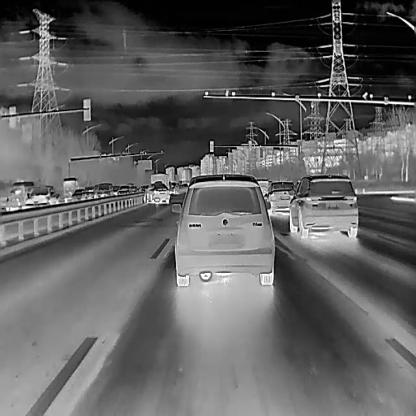car: (171, 173, 274, 285), (287, 174, 358, 238), (264, 180, 297, 214), (22, 185, 60, 207), (143, 182, 170, 203), (96, 182, 112, 197), (81, 187, 96, 197), (70, 188, 83, 199), (116, 184, 130, 194), (128, 185, 137, 194)
truck: (5, 180, 33, 210), (63, 178, 78, 199)
